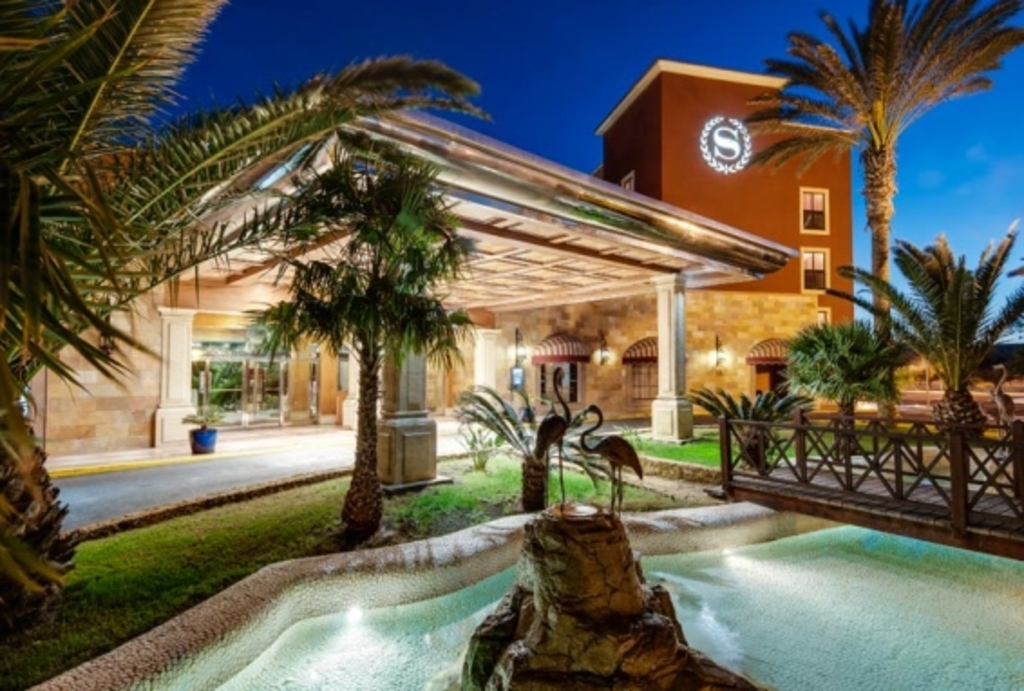Tree: (744, 0, 1024, 430), (825, 237, 1024, 439), (778, 322, 919, 454)
